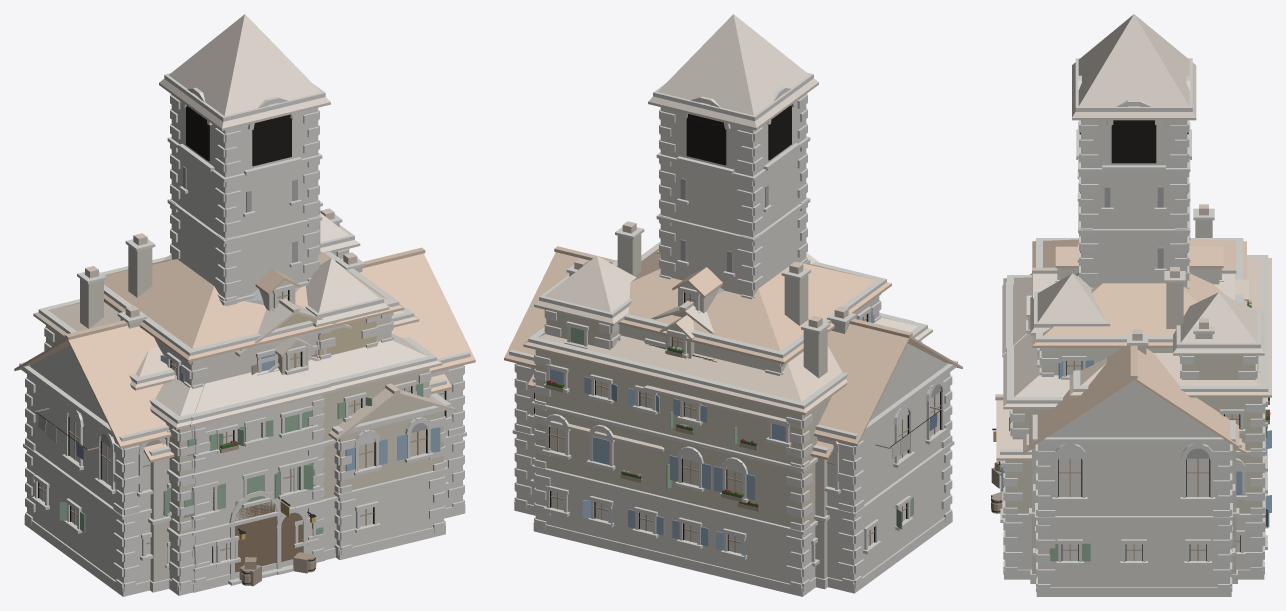
The picture shows the model from 3 angles, left to right: view 1: azimuth 30°, elevation 25°; view 2: azimuth 150°, elevation 25°; view 3: azimuth 270°, elevation 25°; orthographic projection.
Visible parts, largest first — view 1: hd_kl_hall, hd_kl_tower, hd_kl_inn, hd_kl_manse, hd_kl_lshape, hd_kl_tenement, hd_kl_corner, hd_kl_warehouse, hd_kl_narrow; view 2: hd_kl_manse, hd_kl_tower, hd_kl_hall, hd_kl_tenement, hd_kl_inn, hd_kl_lshape, hd_kl_warehouse, hd_kl_narrow; view 3: hd_kl_hall, hd_kl_tower, hd_kl_manse, hd_kl_tenement, hd_kl_inn, hd_kl_corner, hd_kl_lshape, hd_kl_warehouse, hd_kl_narrow.
Boxes of the visible parts, <box> form: hd_kl_hall: <box>14,247,475,596</box>; hd_kl_tower: <box>159,14,330,306</box>; hd_kl_inn: <box>117,211,442,595</box>; hd_kl_manse: <box>33,208,456,559</box>; hd_kl_lshape: <box>189,368,335,592</box>; hd_kl_tenement: <box>101,201,404,388</box>; hd_kl_corner: <box>305,258,389,359</box>; hd_kl_warehouse: <box>144,374,451,592</box>; hd_kl_narrow: <box>162,254,352,374</box>; hd_kl_manse: <box>523,258,848,596</box>; hd_kl_tower: <box>648,14,818,299</box>; hd_kl_hall: <box>504,246,962,593</box>; hd_kl_tenement: <box>615,221,891,375</box>; hd_kl_inn: <box>534,256,932,349</box>; hd_kl_lshape: <box>548,312,913,511</box>; hd_kl_warehouse: <box>527,374,833,589</box>; hd_kl_narrow: <box>648,252,819,362</box>; hd_kl_hall: <box>1029,273,1239,596</box>; hd_kl_tower: <box>1072,14,1196,288</box>; hd_kl_manse: <box>995,204,1271,579</box>; hd_kl_tenement: <box>1032,238,1246,379</box>; hd_kl_inn: <box>991,275,1264,488</box>; hd_kl_corner: <box>1030,273,1110,367</box>; hd_kl_lshape: <box>991,282,1267,513</box>; hd_kl_warehouse: <box>1023,380,1245,583</box>; hd_kl_narrow: <box>1032,267,1236,299</box>.
Size of the model in its own units: 20.3 by 27.04 by 13.76.
